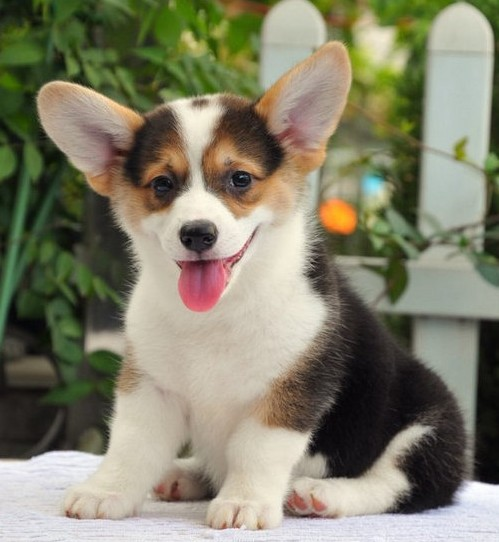dog: (35, 39, 469, 529)
